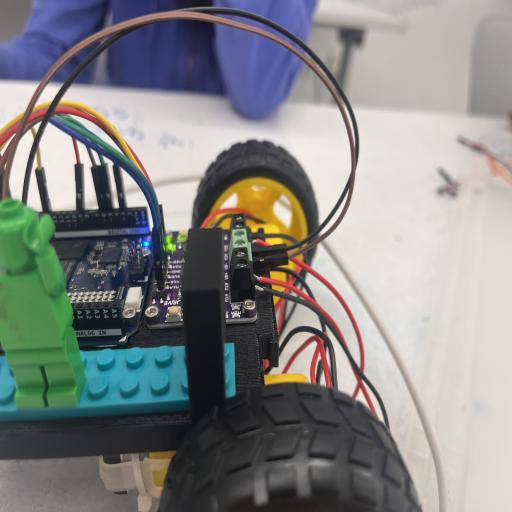Lego-Minifig: (0, 198, 86, 409)
